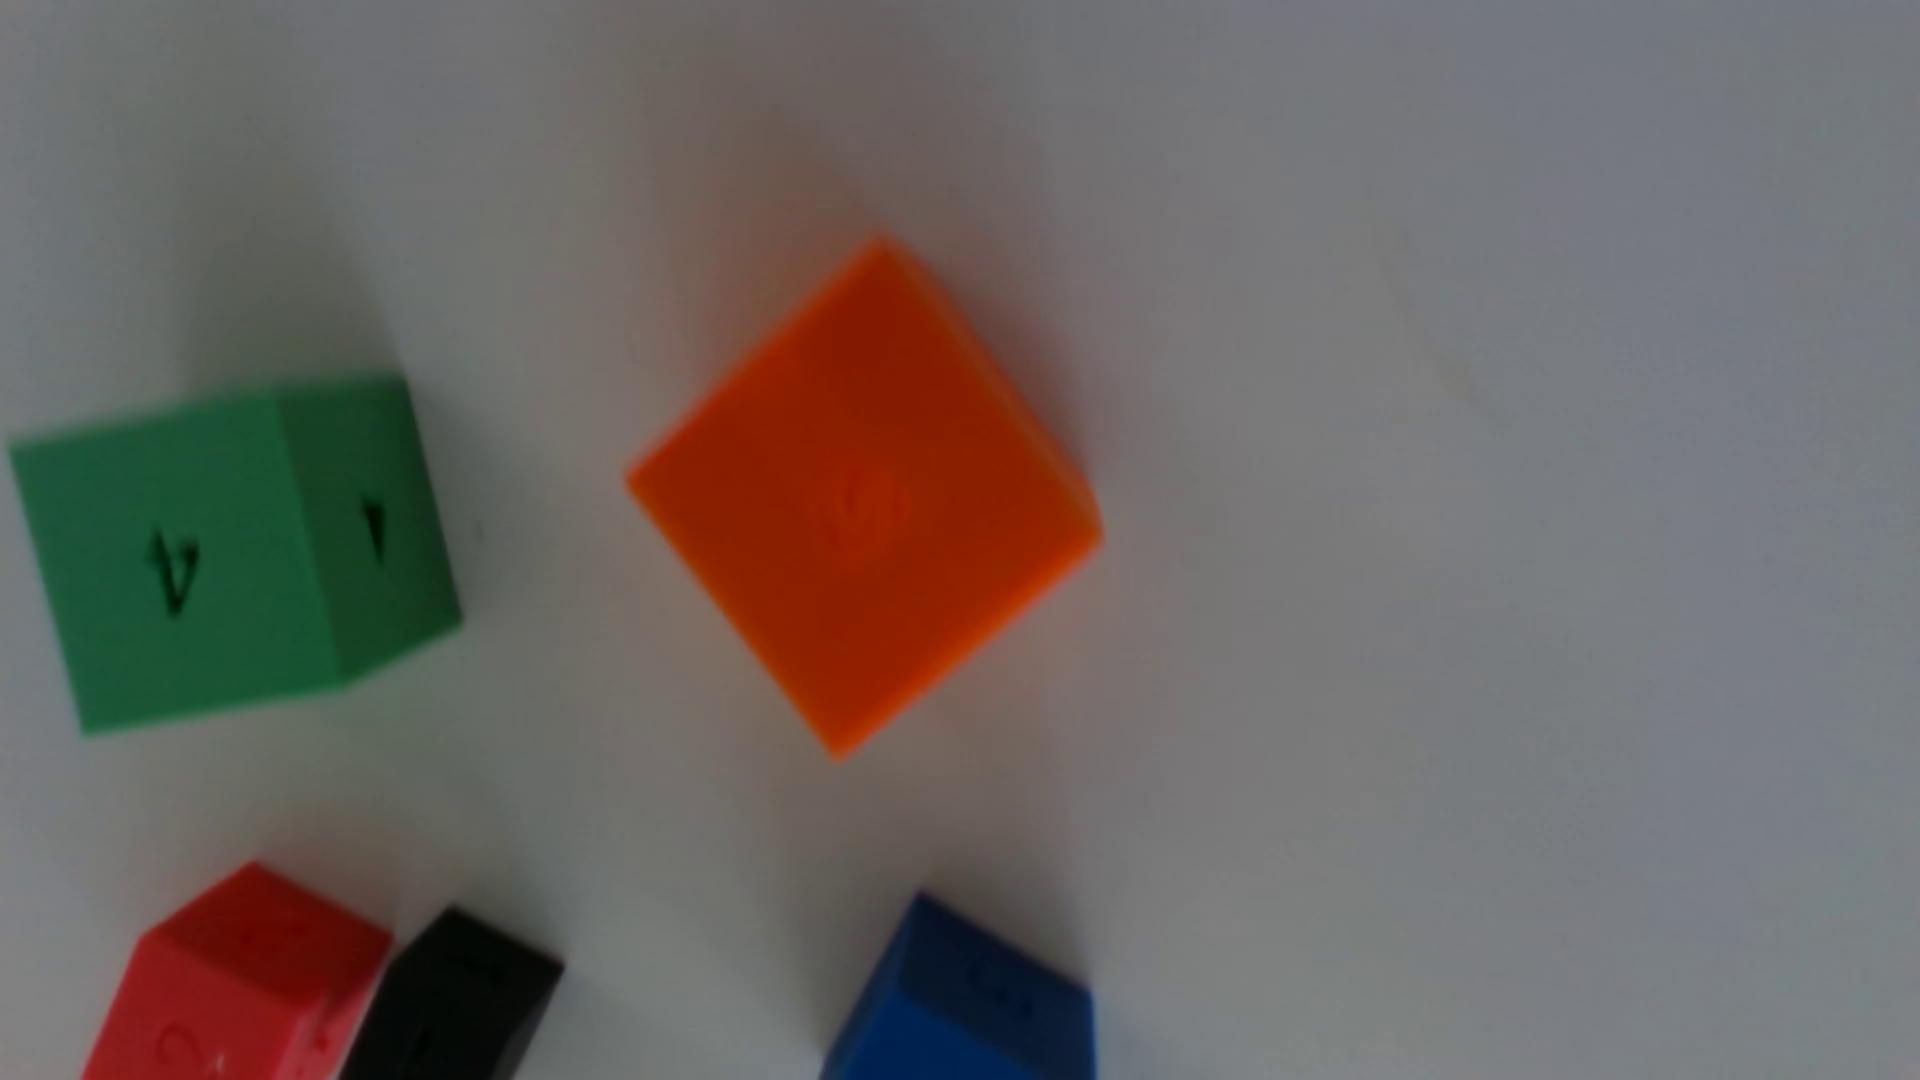black: (338, 907, 564, 1080)
blue: (819, 895, 1098, 1080)
green: (11, 376, 462, 733)
orange: (628, 243, 1101, 756)
red: (80, 862, 393, 1080)
